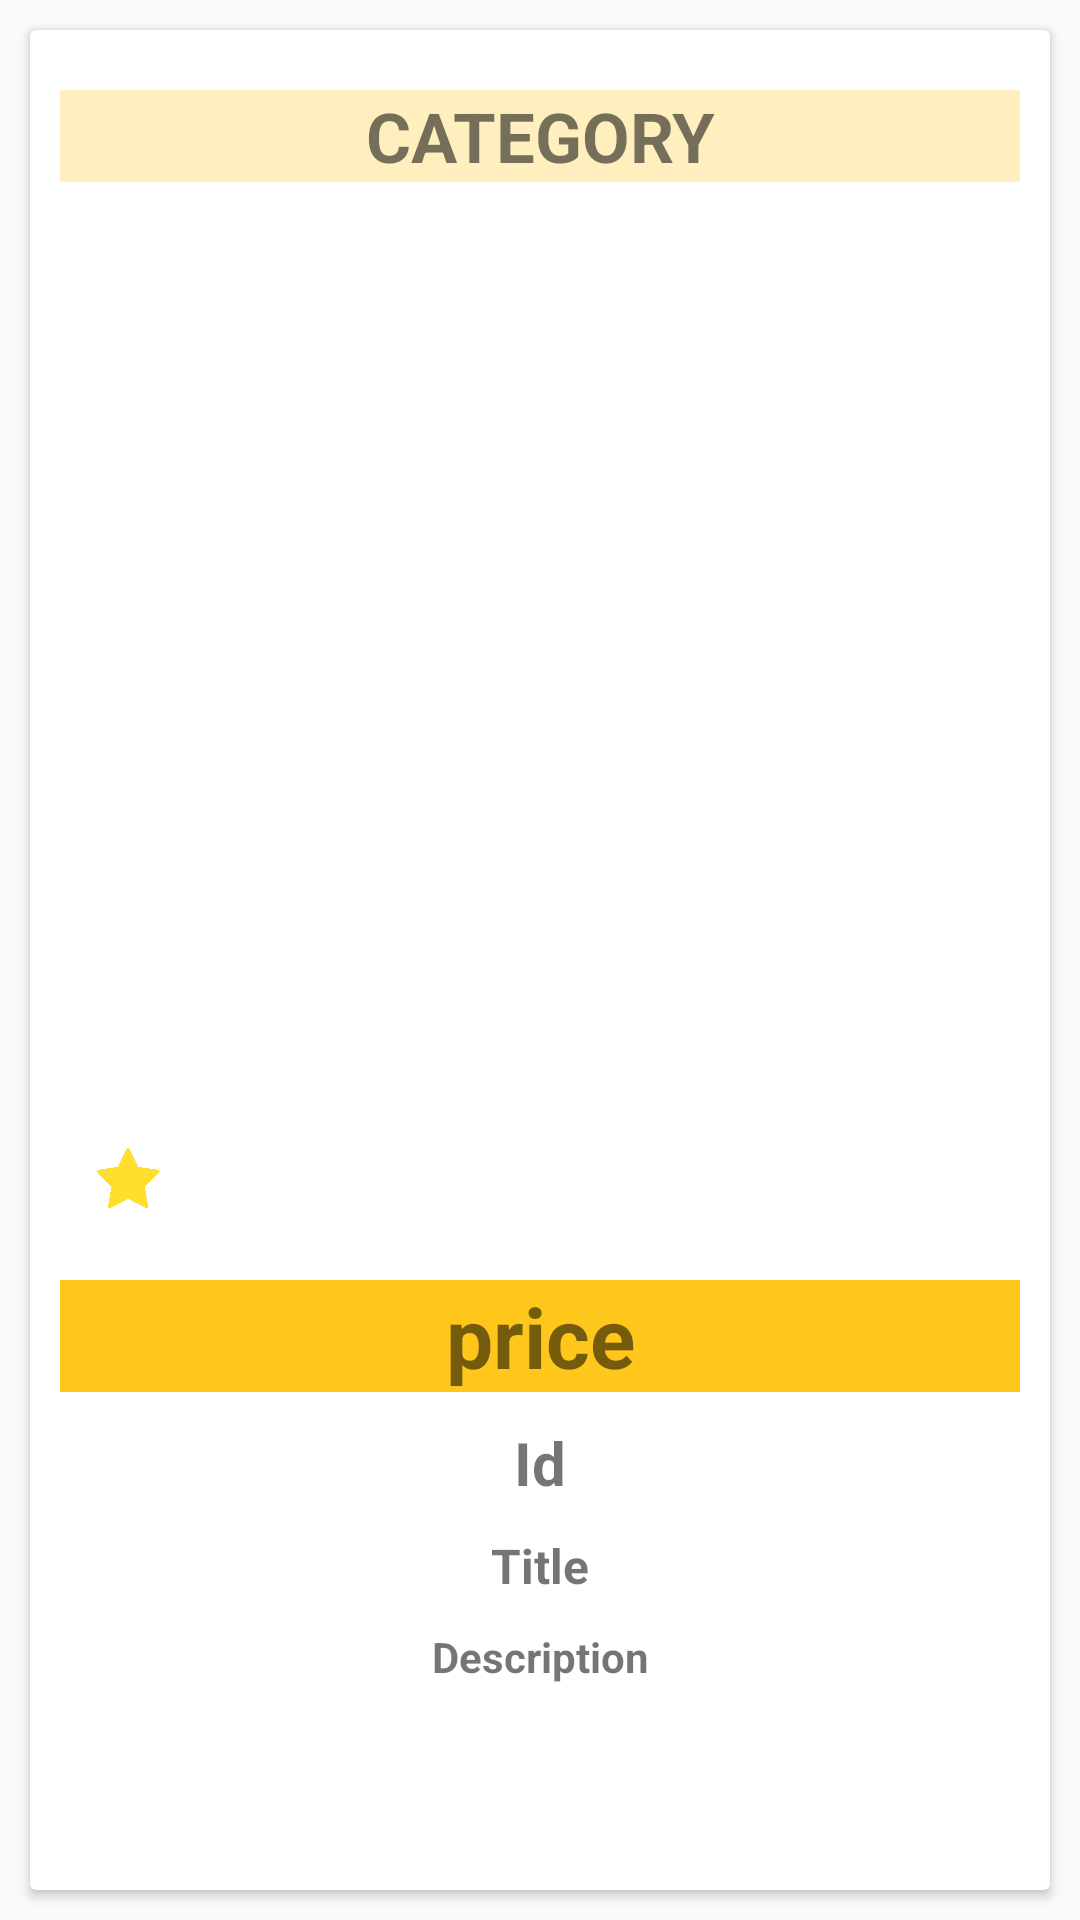

Icon bounding boxes for this 1080px×1920px phone screenshot, format (x1, y1, x2, y2):
rating: (96, 1148, 160, 1208)
